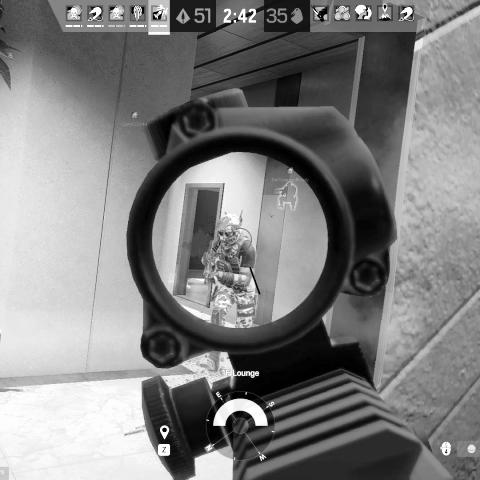Character: (199, 211, 258, 374)
Friend_label: (270, 168, 310, 182), (122, 110, 149, 127)
Head: (215, 213, 241, 246)
